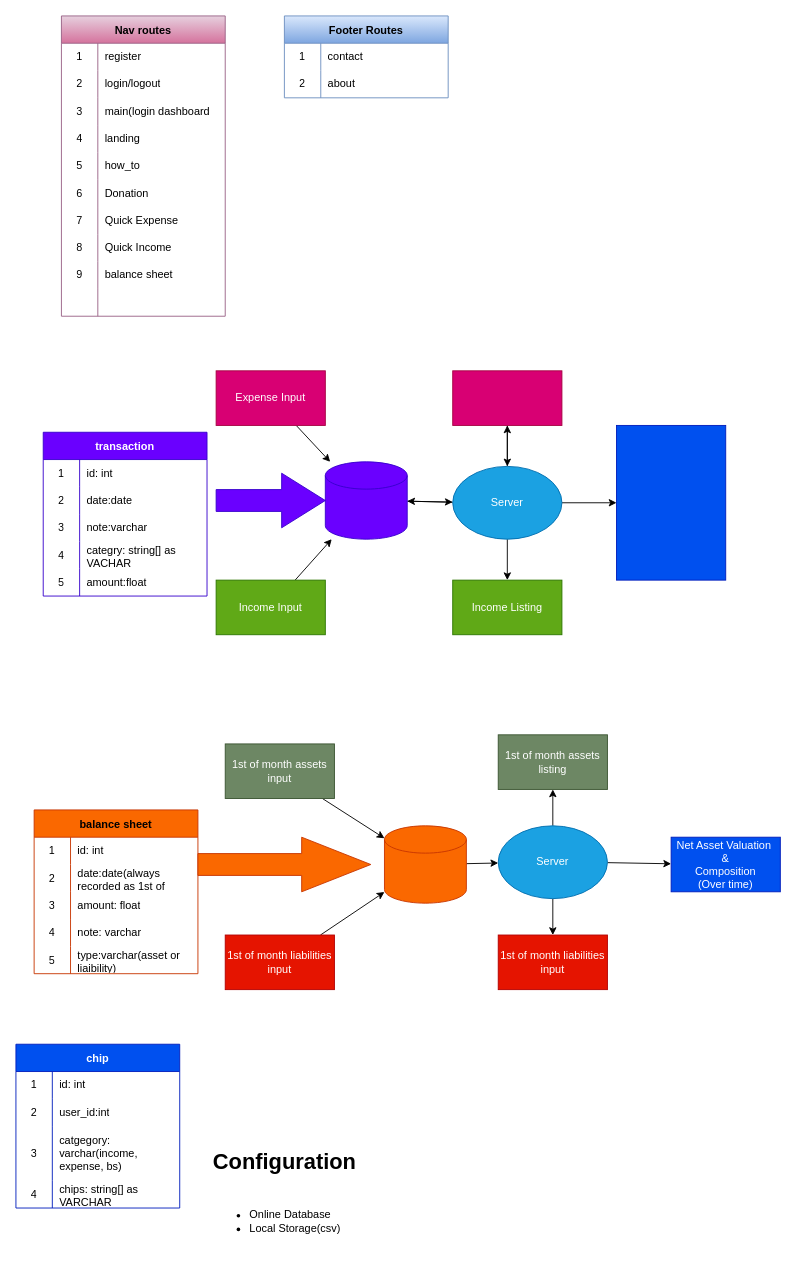
Image size: 796x1279. Some labels were removed from this diagram. The shapes that lost their labels are listed below. From the top down, each one's centre as x and y in pixels, then its label:
At point (507, 397): "Expense Listing".
At point (365, 500): "Transaction Table".
At point (671, 502): "CashFlow Summary (Monthly/ Range Dependent)".
At point (425, 864): "BalanceSheet Table".
